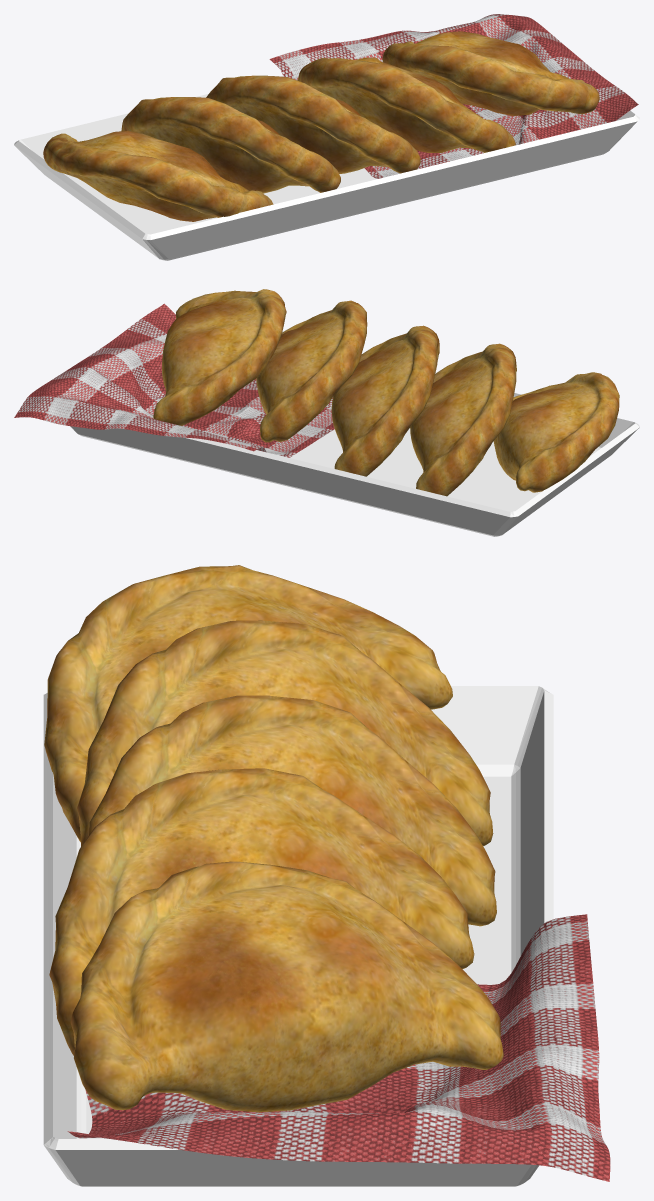
The model's file is empanada.glb.
The picture shows the model from 3 angles, top to bottom: view 1: azimuth 30°, elevation 25°; view 2: azimuth 150°, elevation 25°; view 3: azimuth 270°, elevation 25°; orthographic projection. The views are drawn at different scales.
Visible parts, largest first — view 1: Group62185; view 2: Group62185; view 3: Group62185.
Part boxes in pixels (box(x1,y1,x2,y2)): Group62185: box(14, 14, 639, 260); Group62185: box(14, 289, 639, 536); Group62185: box(43, 565, 610, 1186).
Size of the model in its own units: 38.78 by 8.22 by 18.64.
Materials: 3 (2 with a texture image).
